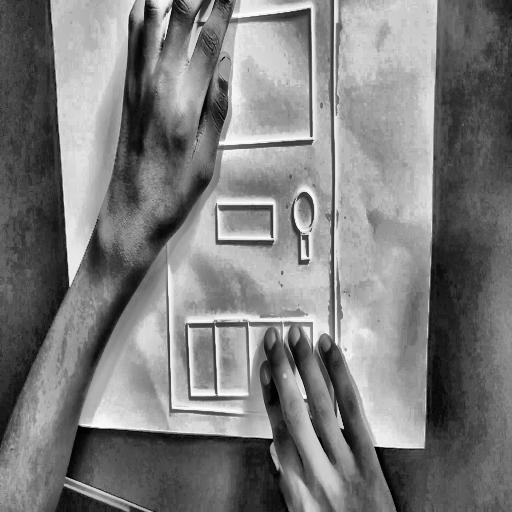bottom_left: (75, 418, 82, 430)
bottom_right: (421, 441, 427, 454)
door: (152, 0, 340, 426)
